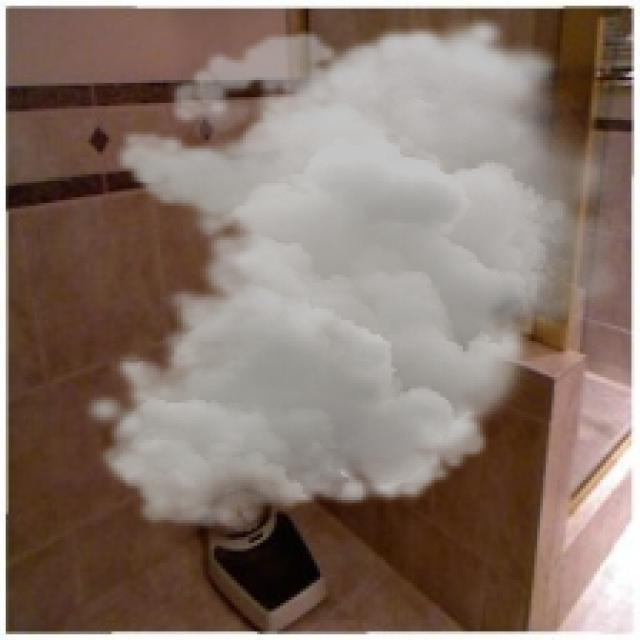Smoke: (79, 14, 632, 532)
